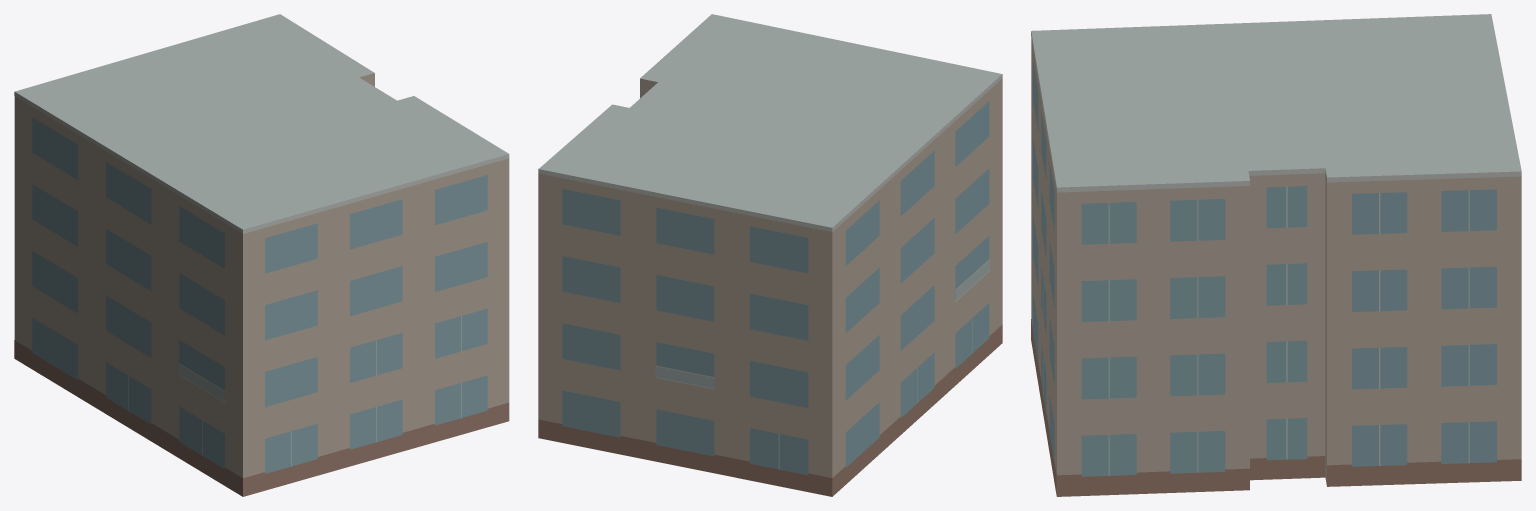
The model's file is survey-upis-32737560.glb.
The picture shows the model from 3 angles, left to right: view 1: azimuth 30°, elevation 25°; view 2: azimuth 150°, elevation 25°; view 3: azimuth 270°, elevation 25°; orthographic projection. The views are drawn at different scales.
Parts seen in each view (by area): view 1: survey-upis-32737560.tmp; view 2: survey-upis-32737560.tmp; view 3: survey-upis-32737560.tmp.
Part boxes in pixels (x1,y1,x2,y2): survey-upis-32737560.tmp: (14,14,509,496); survey-upis-32737560.tmp: (538,14,1002,496); survey-upis-32737560.tmp: (1031,14,1521,496).
Bounding box in the file's own units: 18.3 × 15.2 × 21.86.
